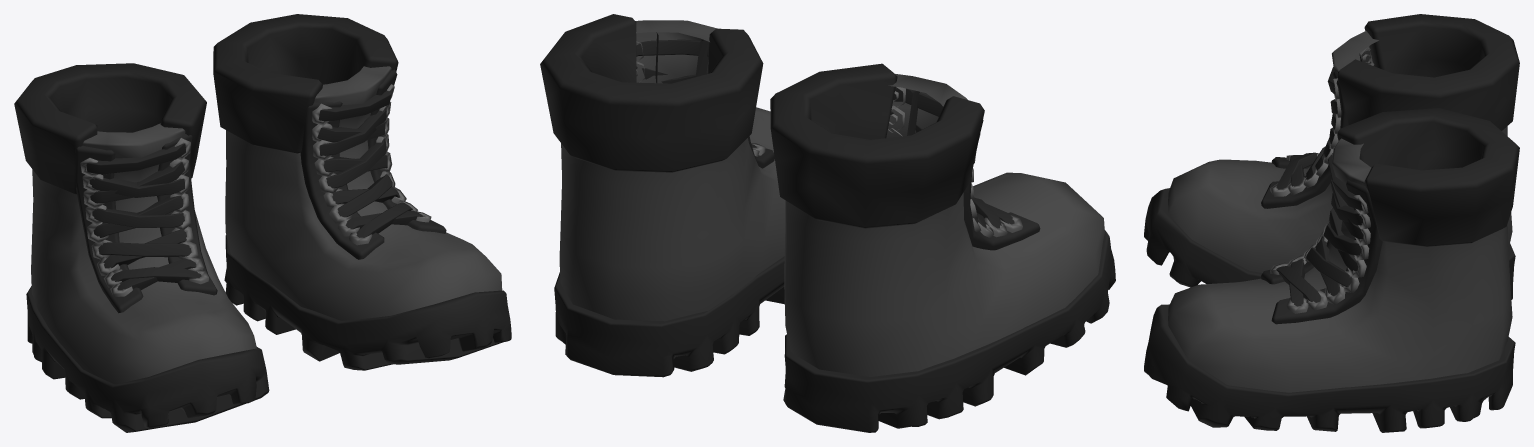
The model's file is Shoe_Boot_004.glb.
3 views of the same model, side by side, from view 1: azimuth 30°, elevation 25°; view 2: azimuth 150°, elevation 25°; view 3: azimuth 270°, elevation 25° (orthographic). The views are drawn at different scales.
Visible parts, largest first — view 1: Shoe_Boot_004; view 2: Shoe_Boot_004; view 3: Shoe_Boot_004.
Boxes of the visible parts, left/top/right/bottom form: Shoe_Boot_004: left=14, top=14, right=511, bottom=432; Shoe_Boot_004: left=540, top=14, right=1115, bottom=432; Shoe_Boot_004: left=1144, top=14, right=1519, bottom=432.
Size of the model in its own units: 0.4305 by 0.2624 by 0.355.
Materials: 1 (1 with a texture image).
